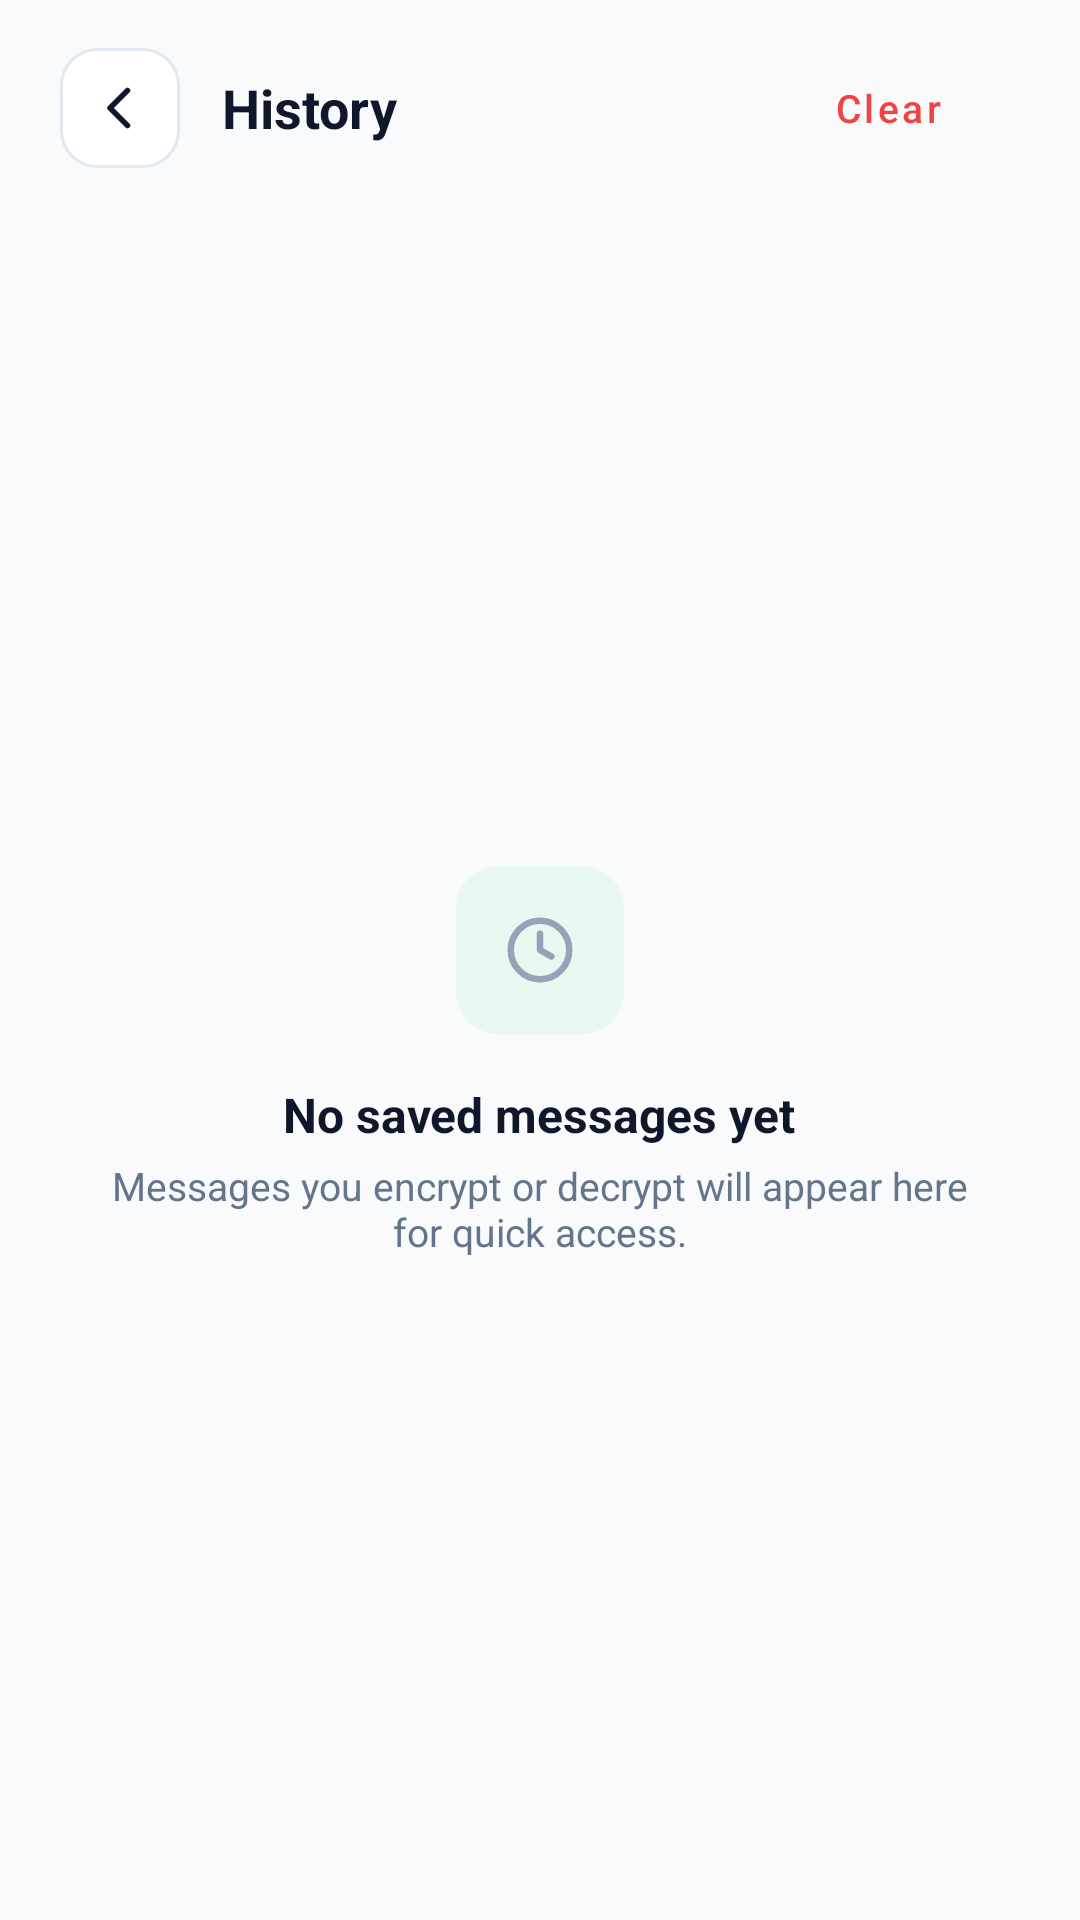

Screen size 1080w x 1920h. Icon name, then its box in pixels as (x1, y1, x2, y2):
Back: (107, 87, 131, 129)
